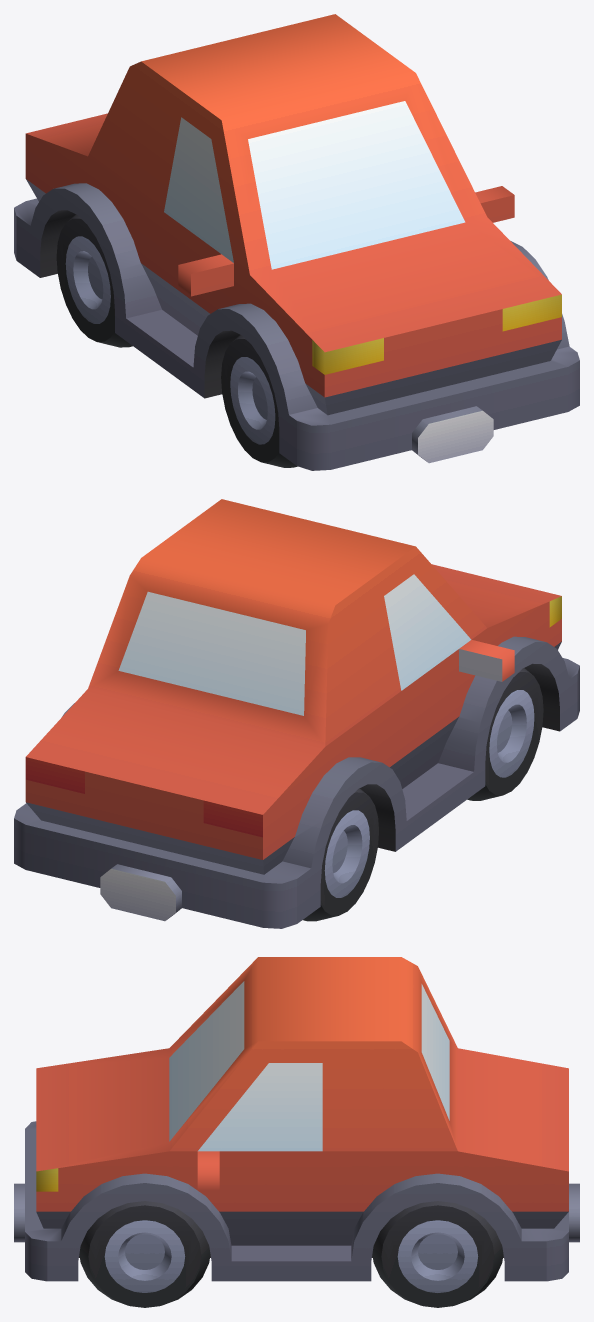
File: kenney-sedan.glb
3 views of the same model, one above another, from view 1: azimuth 30°, elevation 25°; view 2: azimuth 150°, elevation 25°; view 3: azimuth 270°, elevation 25° (orthographic). The views are drawn at different scales.
Visible parts, largest first — view 1: wheel-front-right; view 2: wheel-front-right; view 3: wheel-front-right.
Part boxes in pixels (x1=…): wheel-front-right: x1=14, y1=14, x2=579, y2=470; wheel-front-right: x1=14, y1=499, x2=579, y2=928; wheel-front-right: x1=14, y1=957, x2=579, y2=1307.
Bounding box in the file's own units: 1.5 × 1.3 × 2.55.
Materials: 1 (1 with a texture image).
